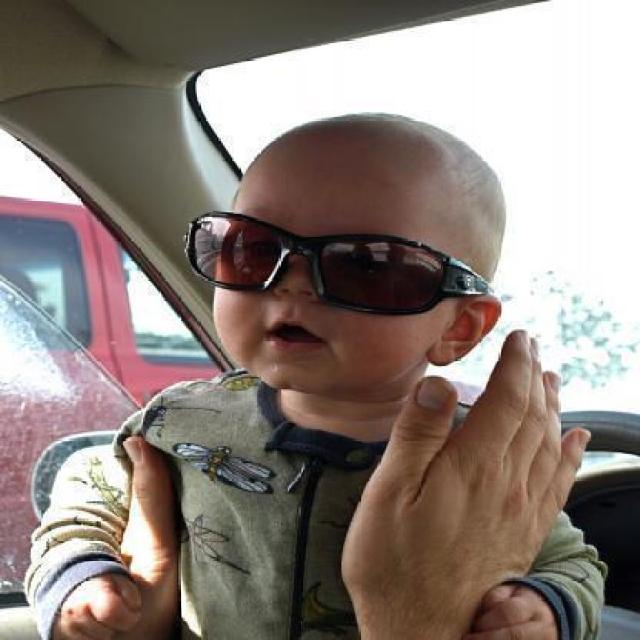No_Ear-Protection: (428, 284, 506, 369)
face_nomask: (218, 206, 380, 394)
glasses: (180, 204, 505, 324)
hand_noglove: (326, 306, 594, 640)
head_nohelmet: (251, 106, 506, 199)
